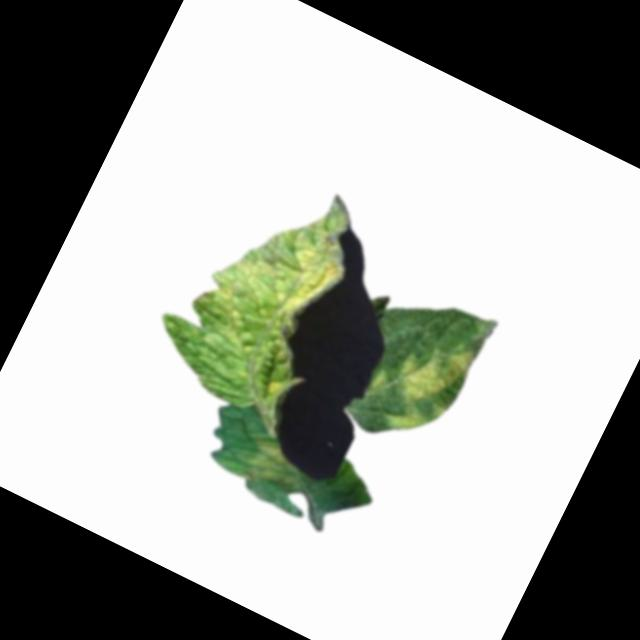Leaf_Mold: (200, 197, 357, 357), (375, 325, 481, 450), (241, 436, 307, 497)
